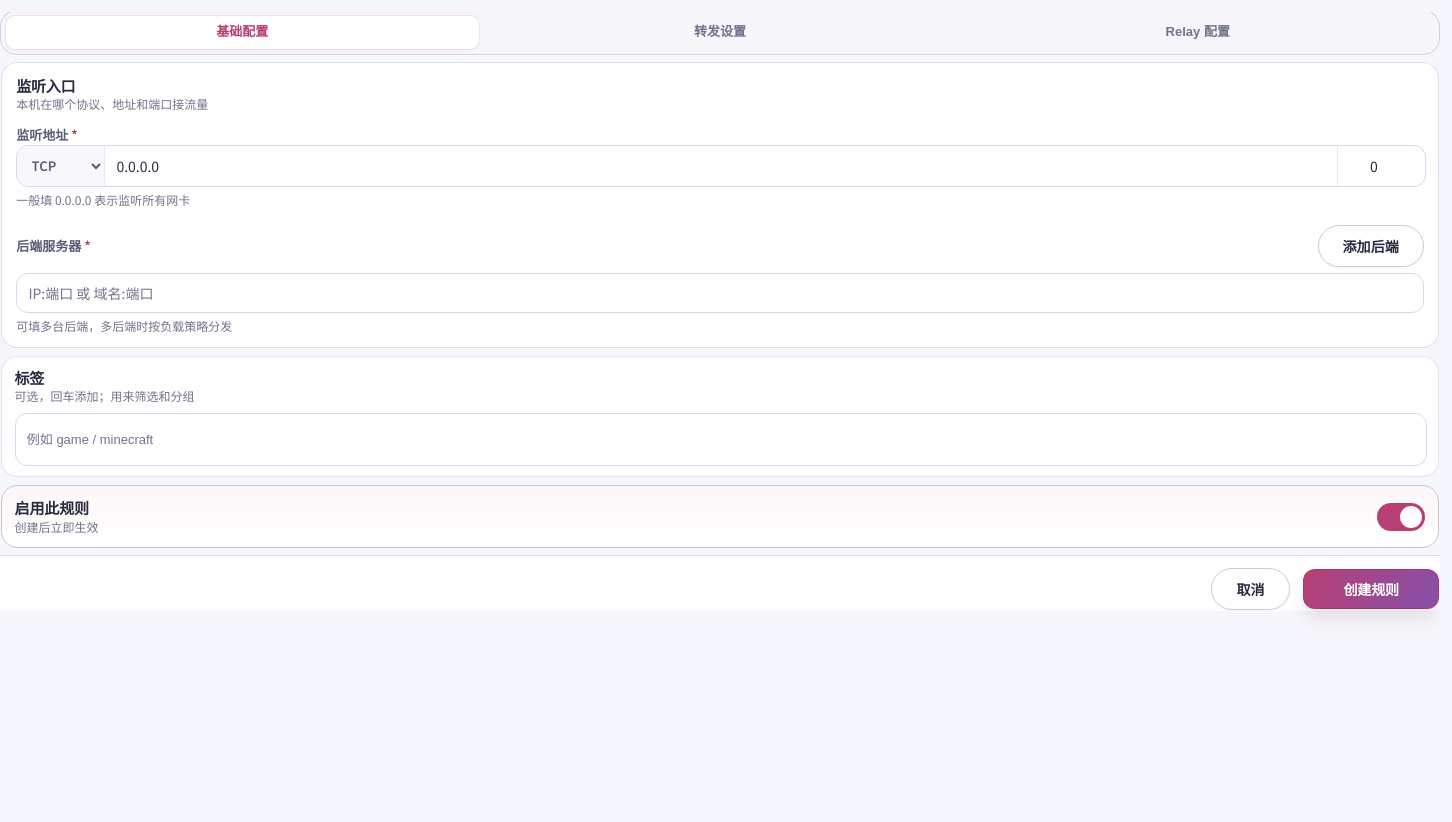
L4RuleForm egress profile and relay path › rejects UDP proxy entry without same-port TCP SOCKS5 rule
Step 1. Select "UDP" in the dropdown with class "input--protocol" → (61, 166), box [17,146,105,186]
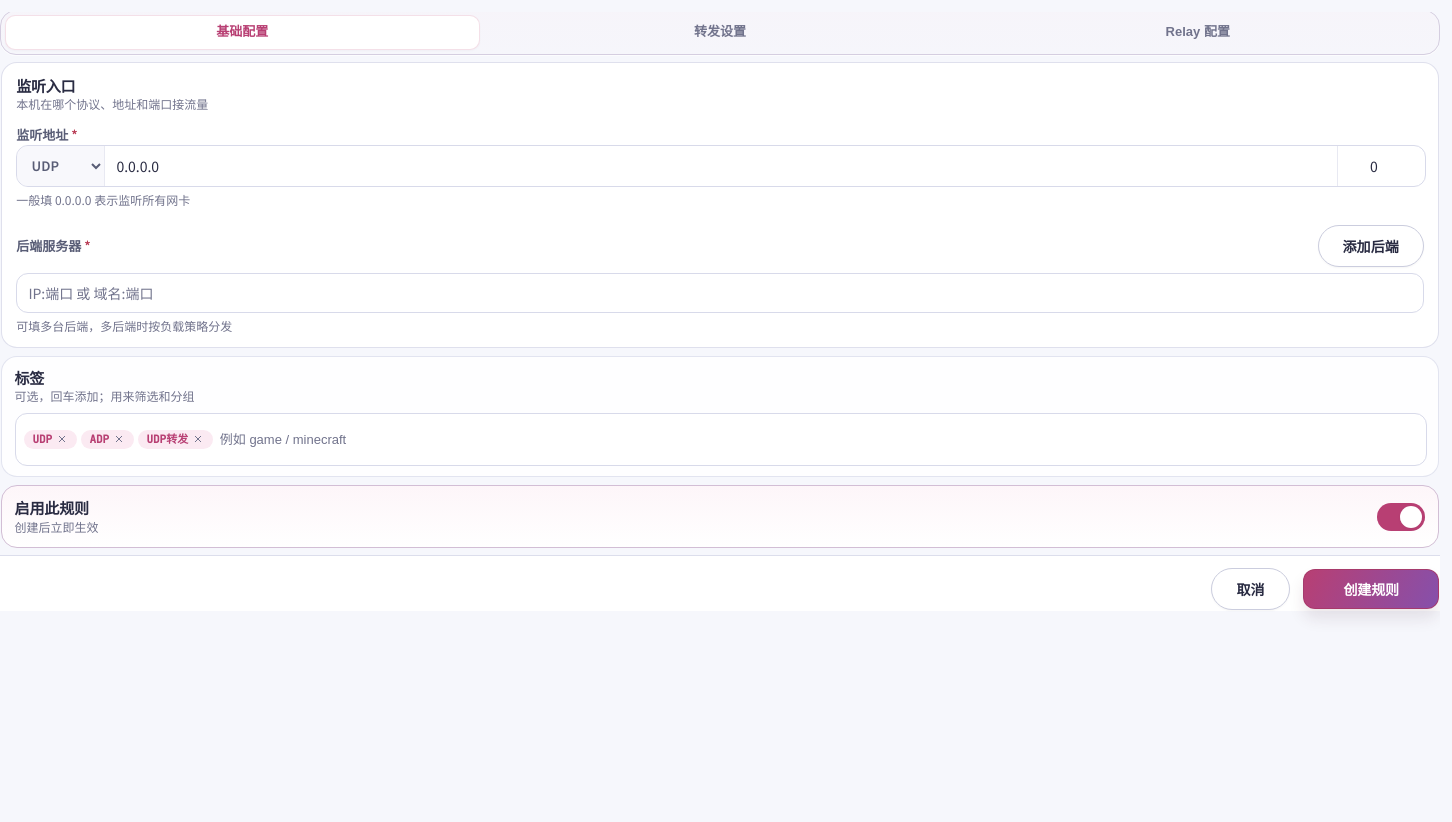
Step 2. Replace the text in the number field with "1080" → (1381, 166), box [1337,146,1425,186]
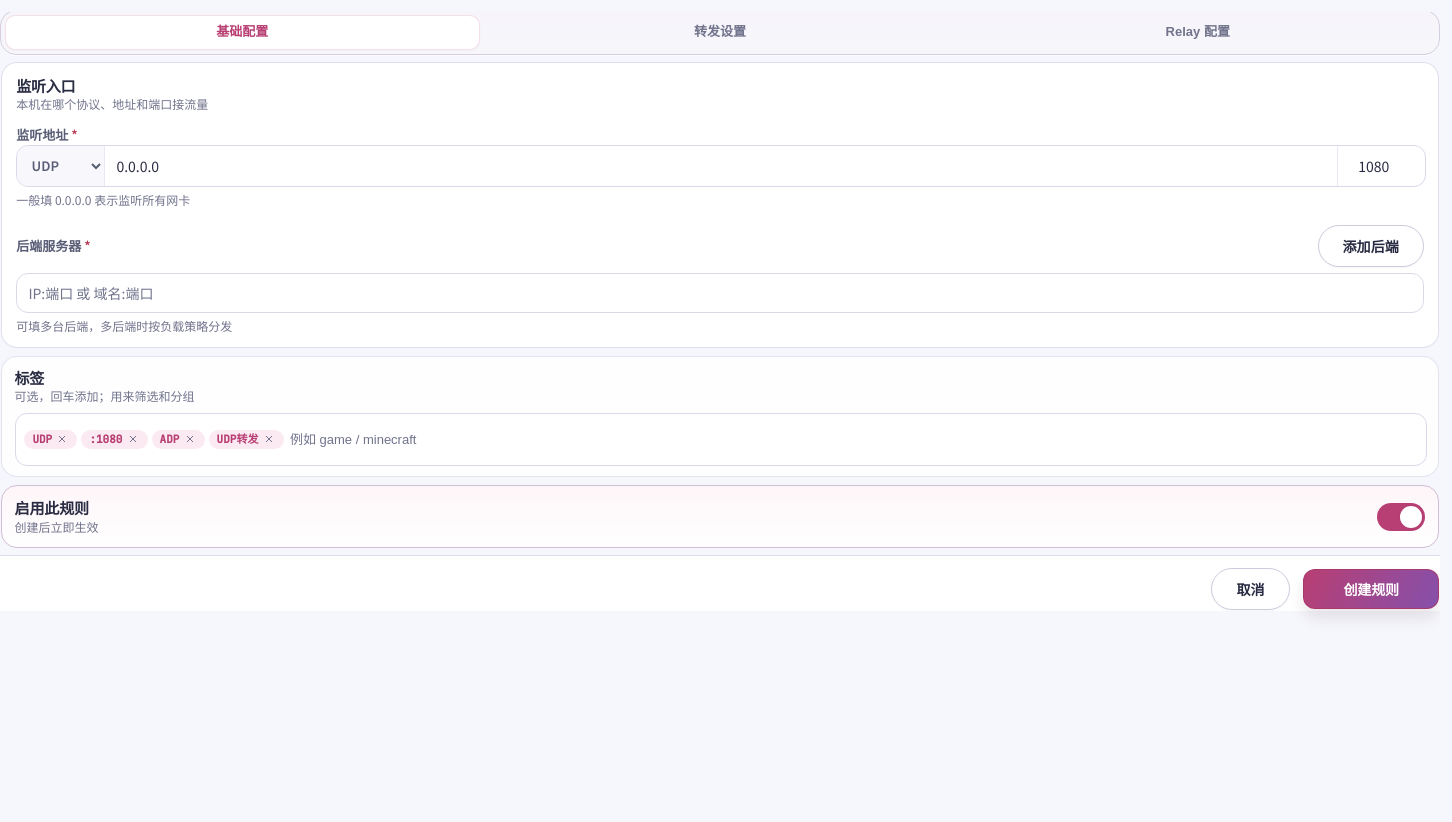
Step 3. Click the tab with class "form-tabs__btn" showing "转发设置" → (720, 33), box [483,15,957,50]
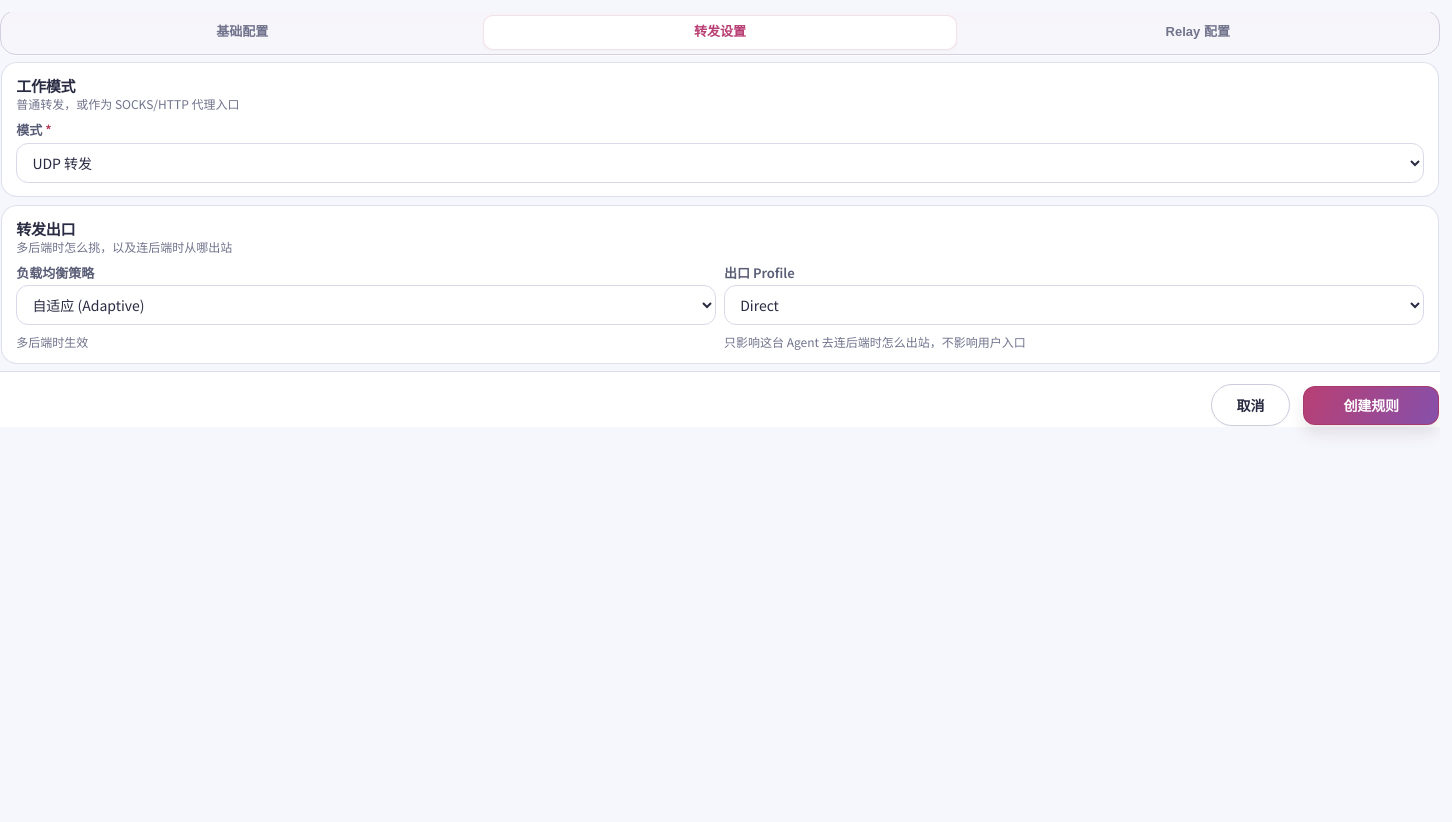
Step 4. Select "SOCKS / HTTP 代理" in the dropdown below "普通转发，或作为 SOCKS/HTTP 代理入口" → (720, 163), box [16,143,1424,183]
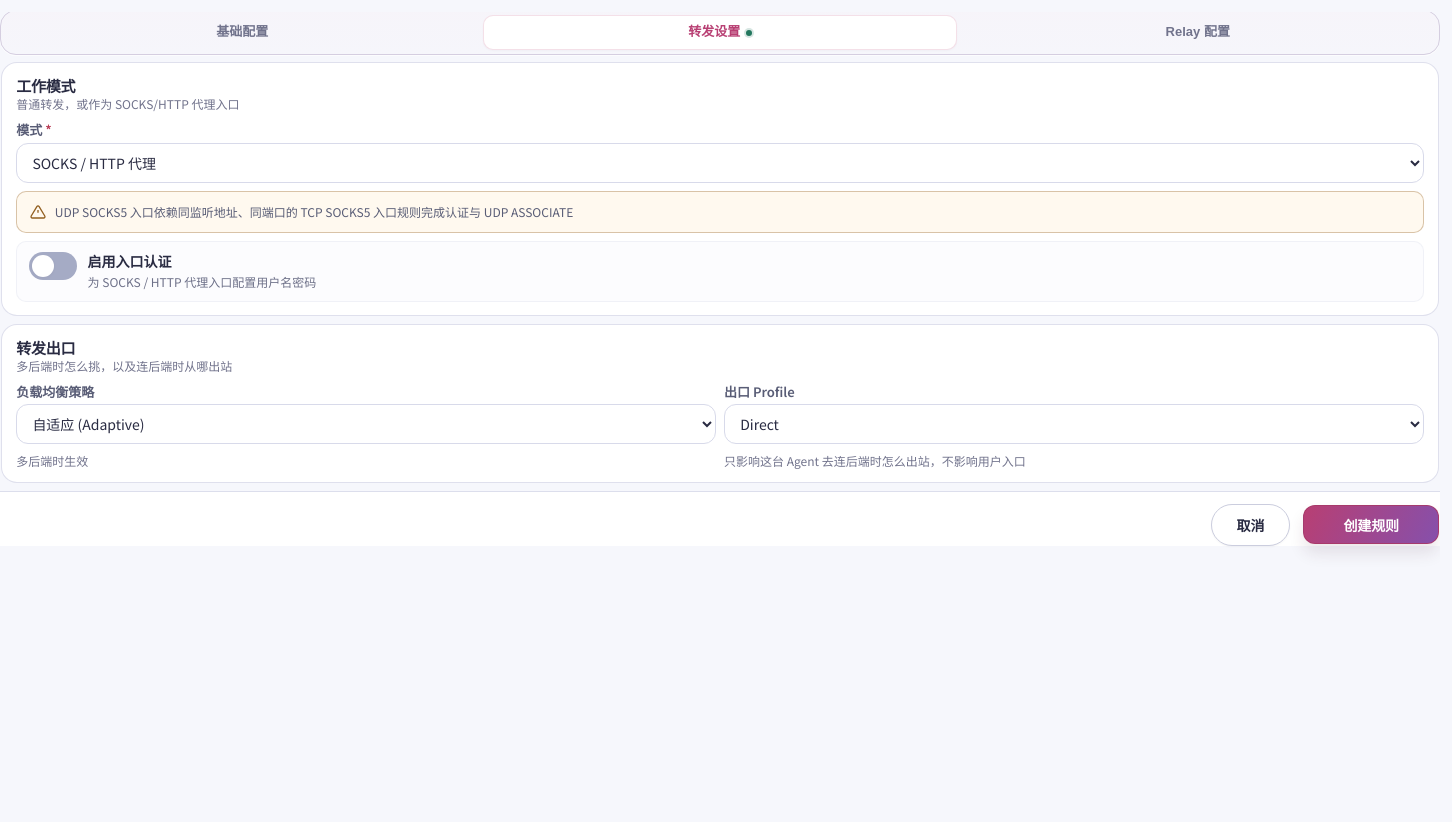
Step 5. Submit the form
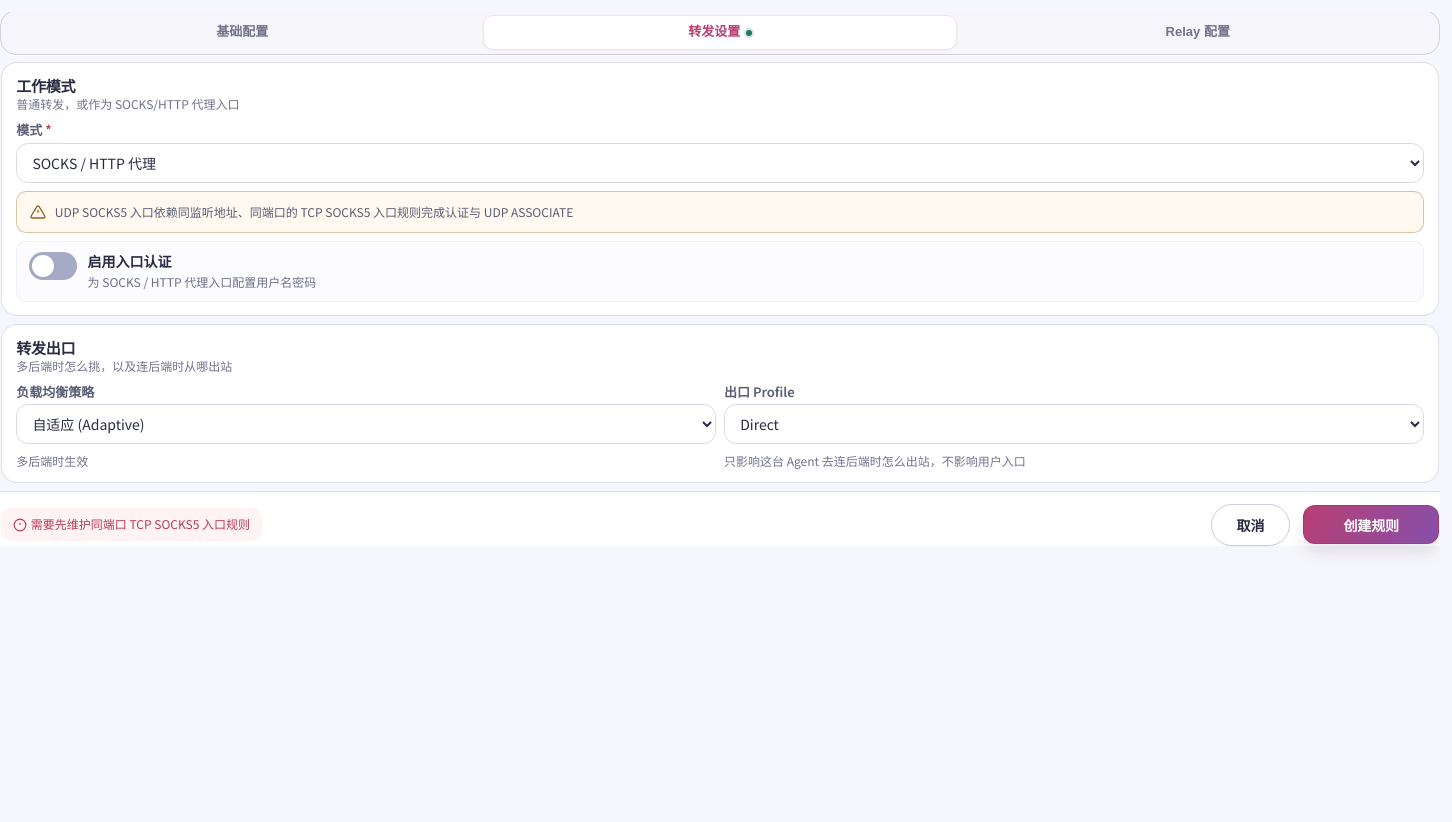
Check: the form shows "需要先维护同端口 TCP SOCKS5 入口规则", box [31,515,250,532]
